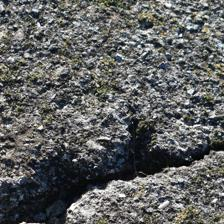Crack: (30, 71, 191, 150)
